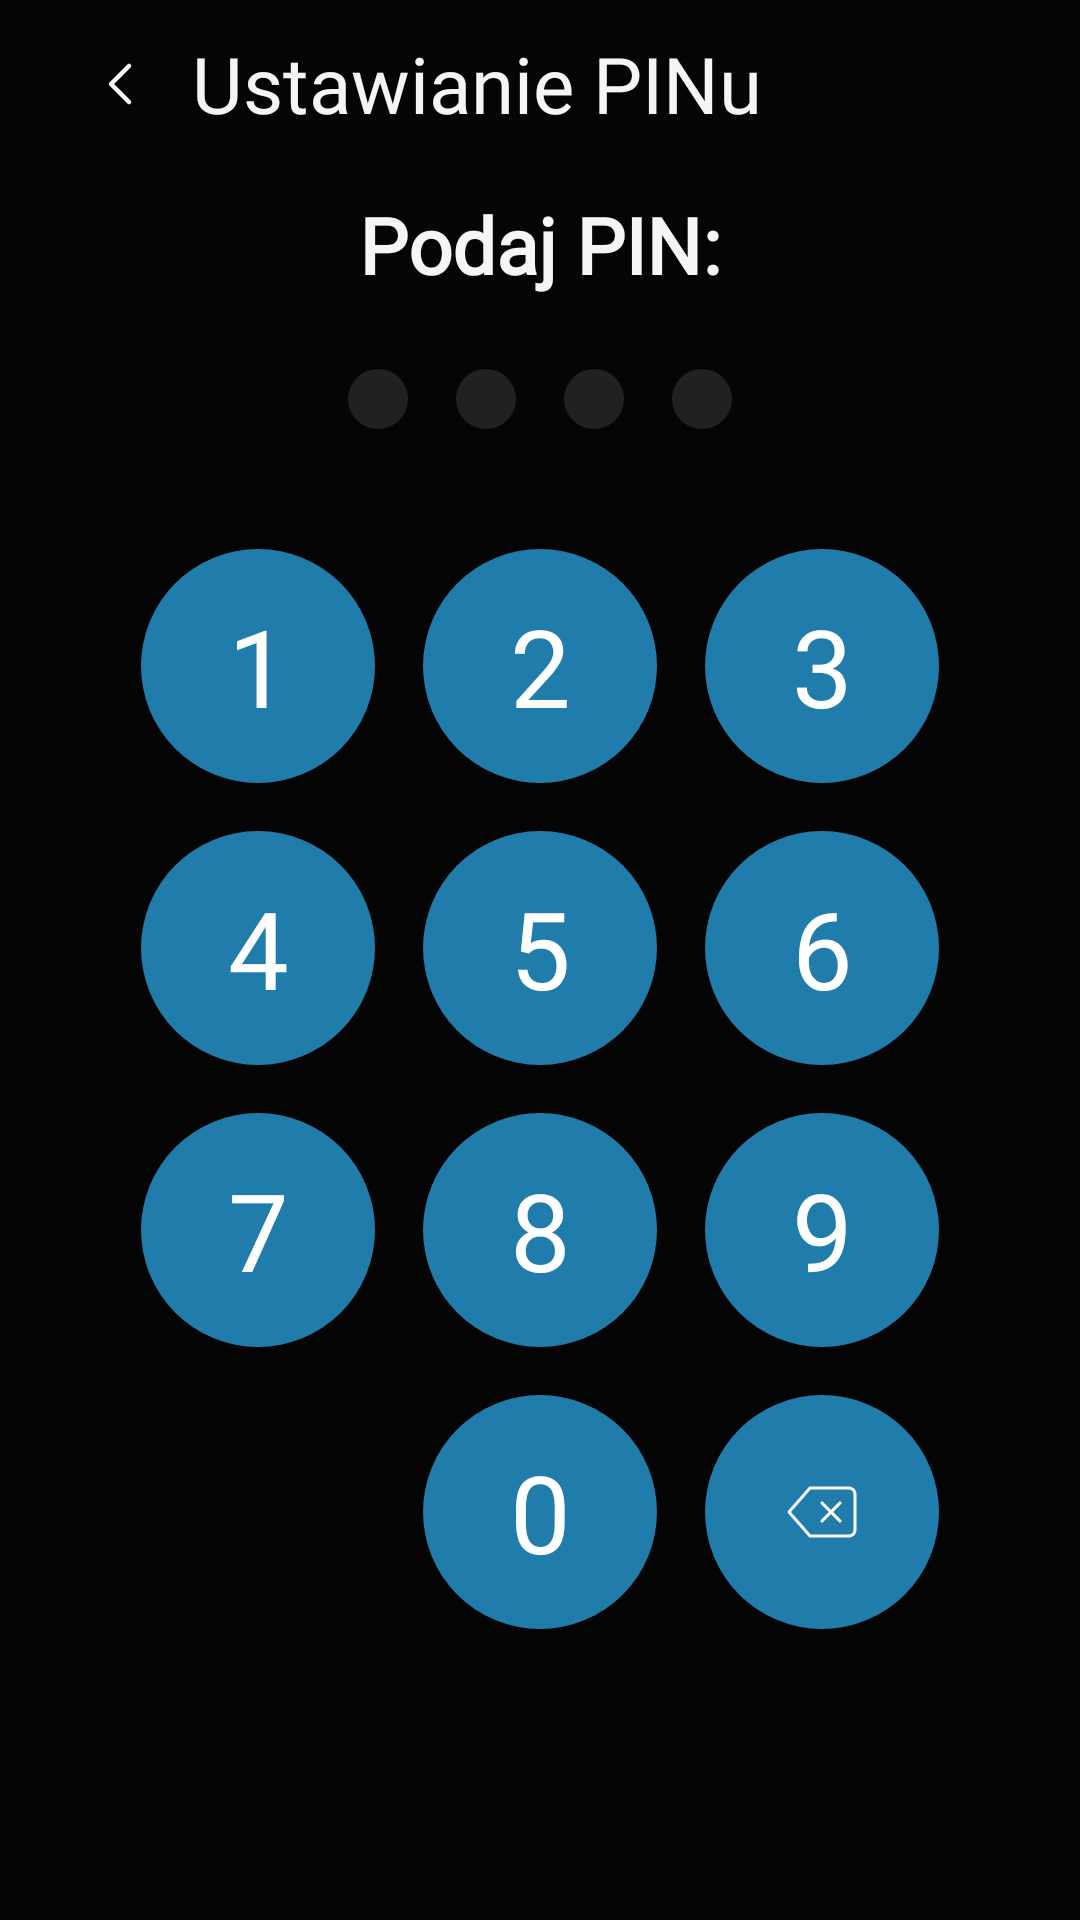

Icon click points for this 1080 × 1920 phone screenshot, format (x,y):
Go Back: (120,84)
